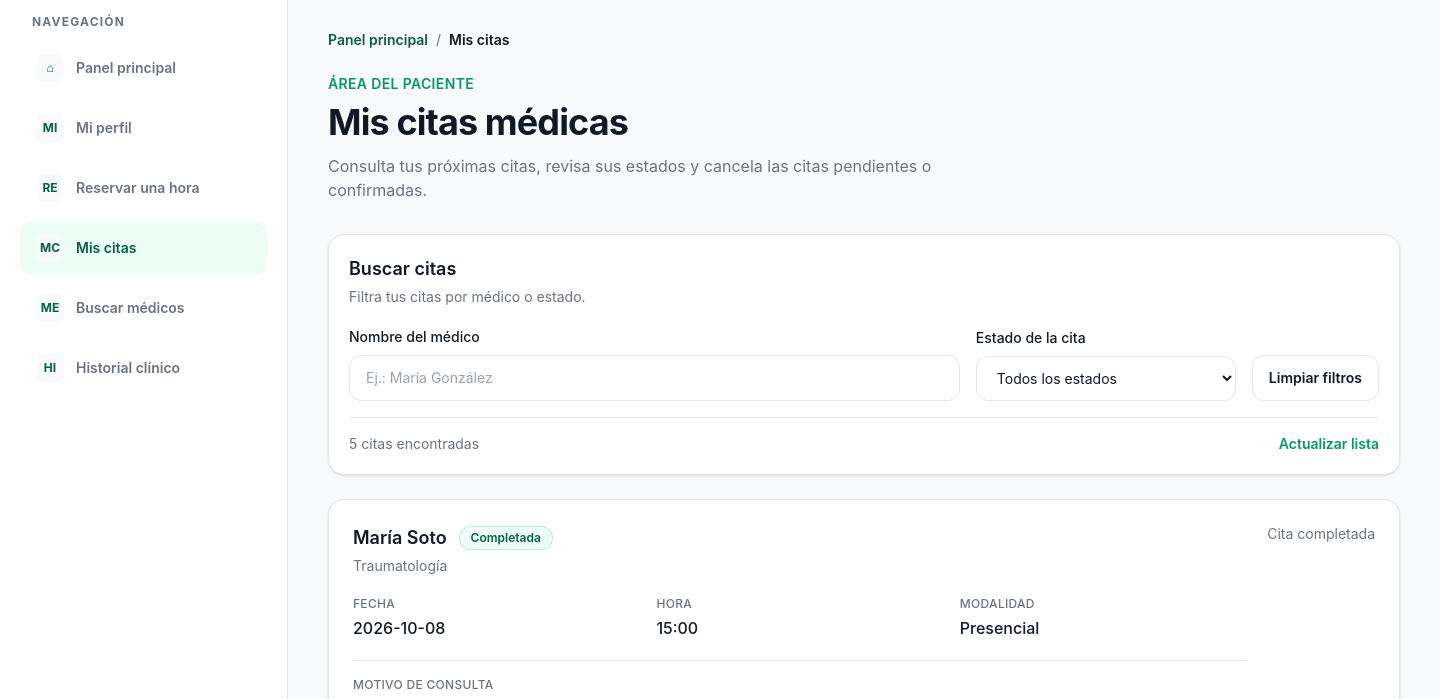
Test: Requisitos de citas en las pantallas por rol › CP-105 · RF-17 · el paciente puede limpiar los filtros de sus citas
Type "Médico inexistente" into the search field labelled "Nombre del médico".
click(654, 378); type("Médico inexistente")  # box [349,355,960,401]
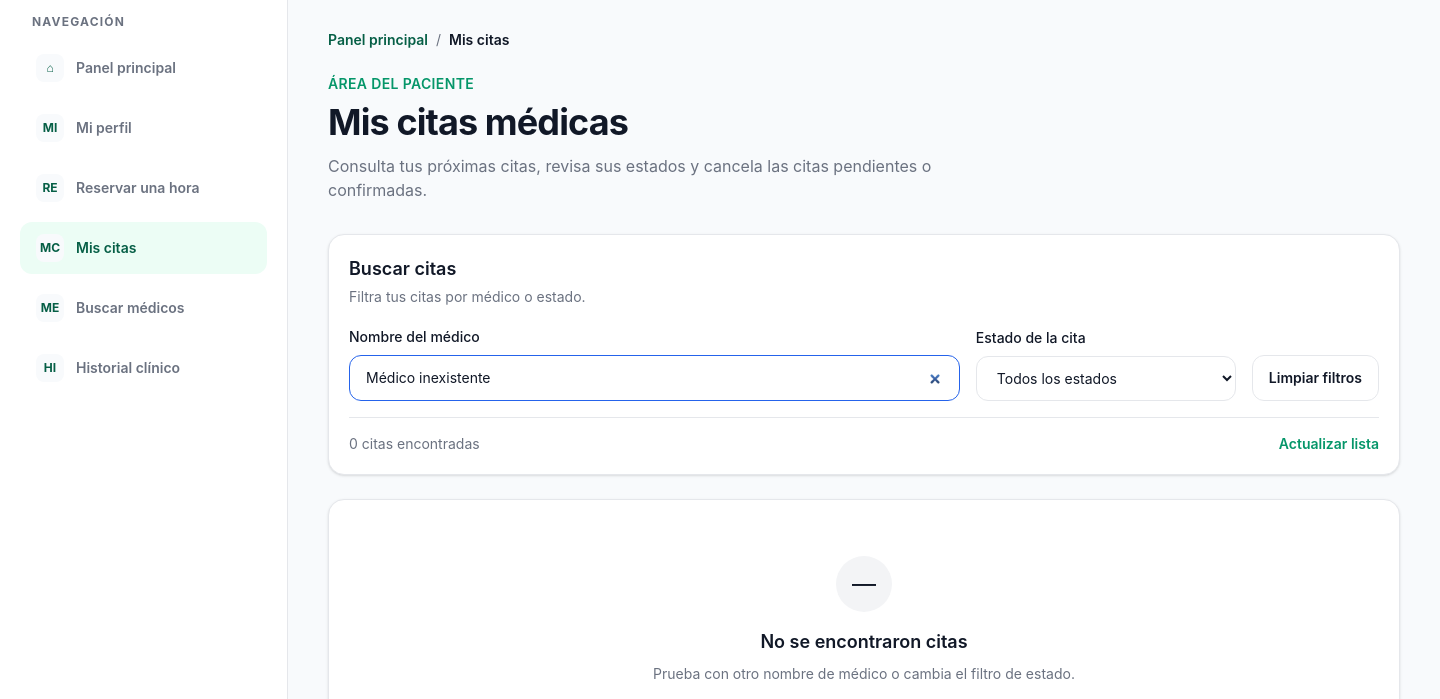
Select "Pendientes" in the dropdown labelled "Estado de la cita" at point(1106, 378), box [976,356,1236,401]
(page scrolled)
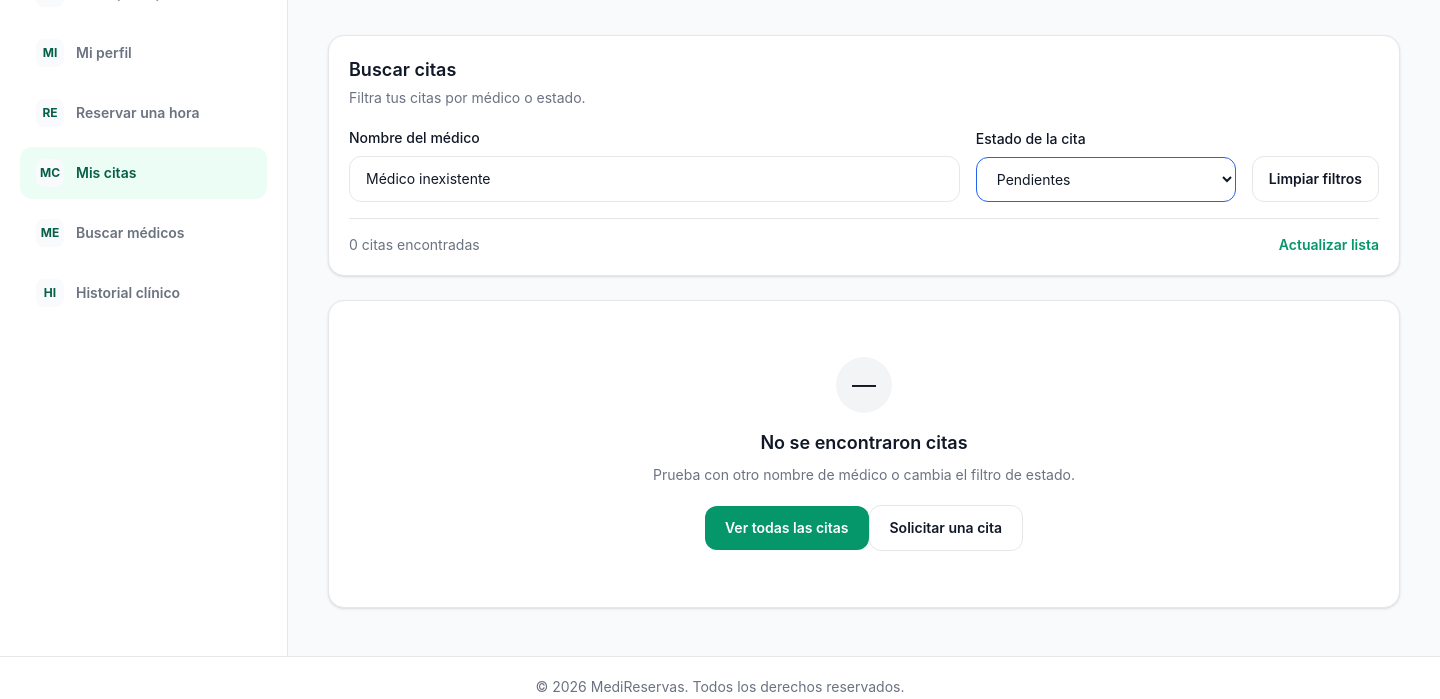
Check: the heading "No se encontraron citas" is shown, box [760,432,968,453]
Click the button "Ver todas las citas".
click(787, 528)  # box [705,506,868,550]
(page scrolled)
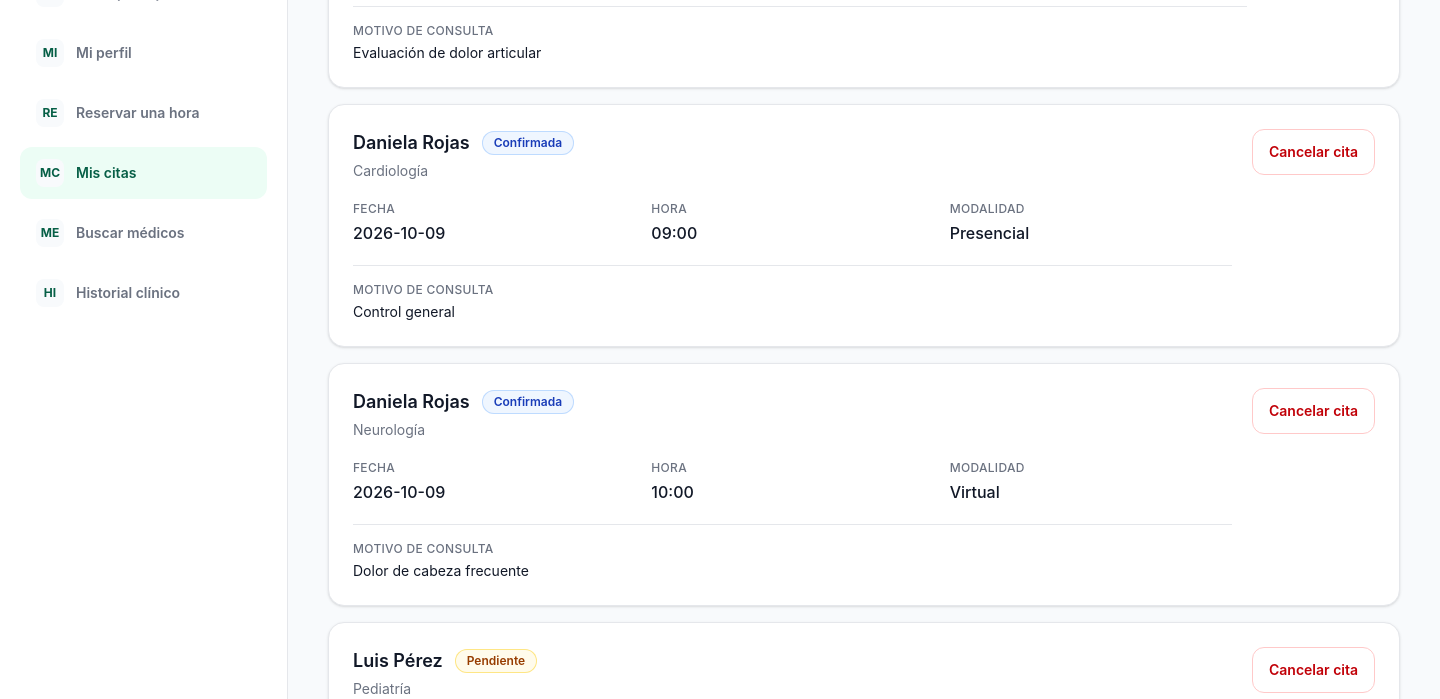
Check: the text "Control general" is shown, box [353,303,455,320]
